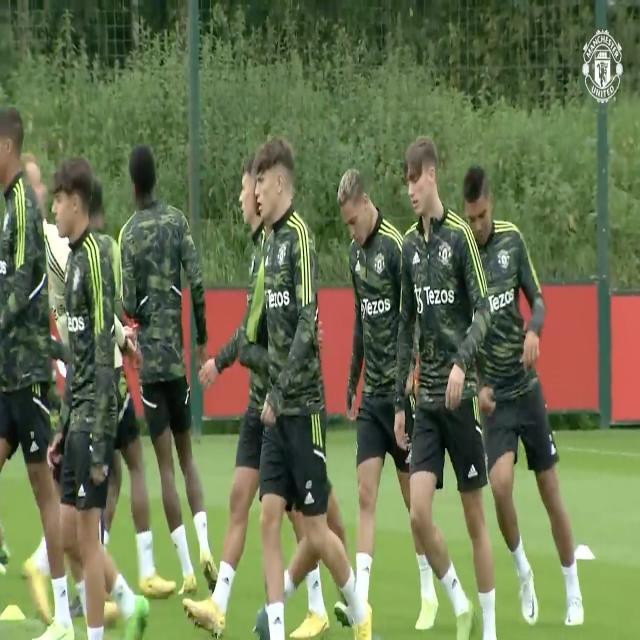Adidas: (77, 482, 89, 500), (412, 249, 422, 266), (468, 464, 478, 480), (272, 611, 282, 627), (450, 574, 460, 589), (59, 584, 68, 600), (305, 492, 315, 506), (355, 258, 362, 274)
